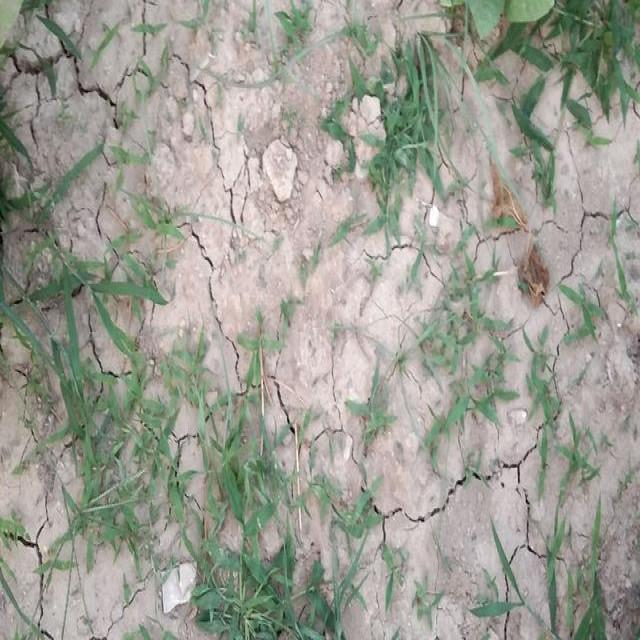weed: (0, 148, 133, 336), (482, 7, 639, 165), (22, 347, 159, 520), (379, 256, 502, 427), (470, 489, 598, 640), (354, 12, 440, 201), (175, 525, 312, 640), (175, 370, 282, 500), (502, 319, 578, 481), (306, 446, 390, 560), (568, 278, 604, 340), (278, 14, 314, 46)
